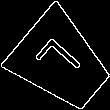L_SE: (33, 35, 90, 91)
